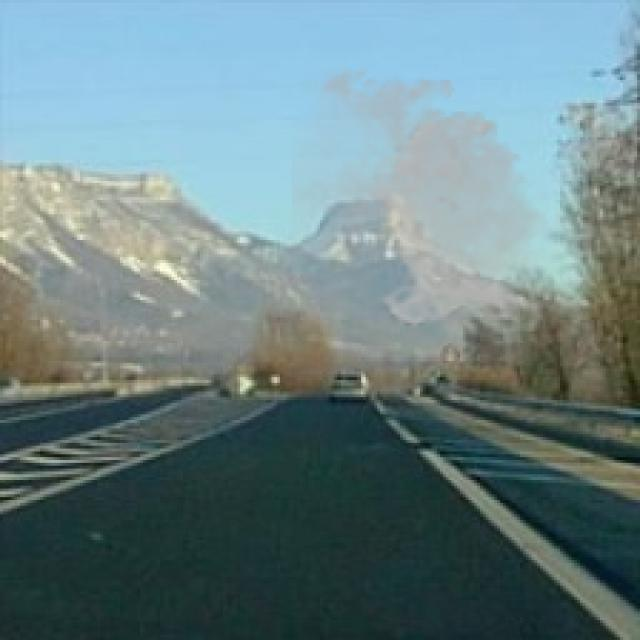smoke: (292, 60, 557, 331)
